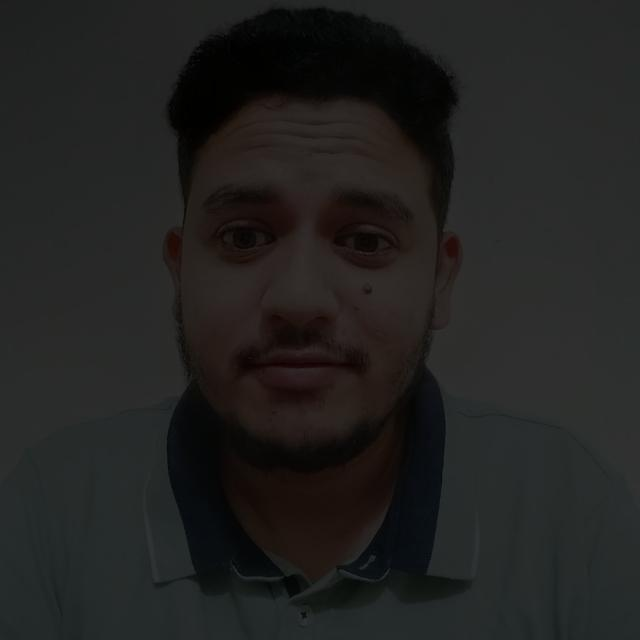Natural: (107, 115, 531, 486)
